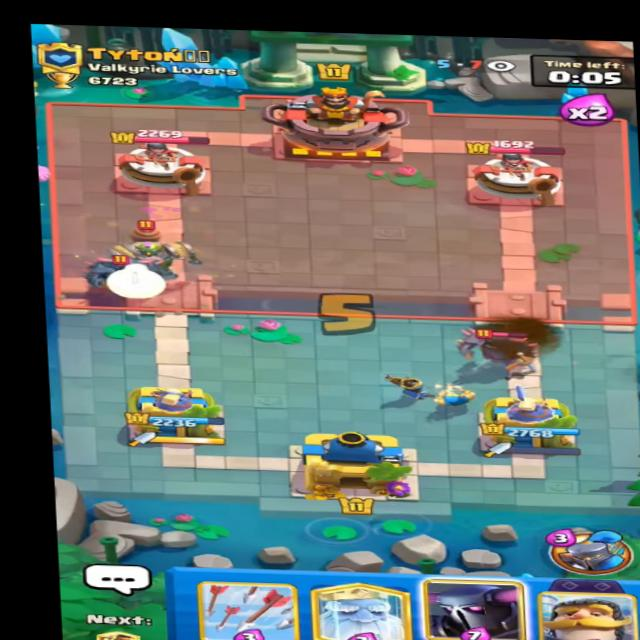goblin-machine: (106, 218, 200, 280)
pekka: (79, 250, 183, 299), (459, 321, 553, 370)
